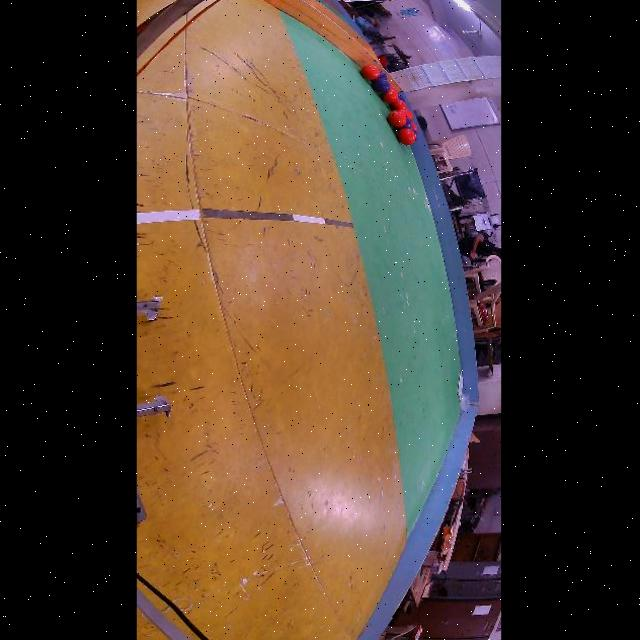P: (370, 79, 390, 93), (377, 70, 386, 80), (402, 118, 410, 128), (410, 128, 417, 138), (396, 95, 404, 101)
R: (396, 128, 415, 145), (386, 111, 405, 127), (380, 87, 398, 103), (360, 65, 379, 80), (389, 99, 405, 111), (399, 108, 409, 119), (410, 122, 417, 131), (409, 111, 412, 119)
